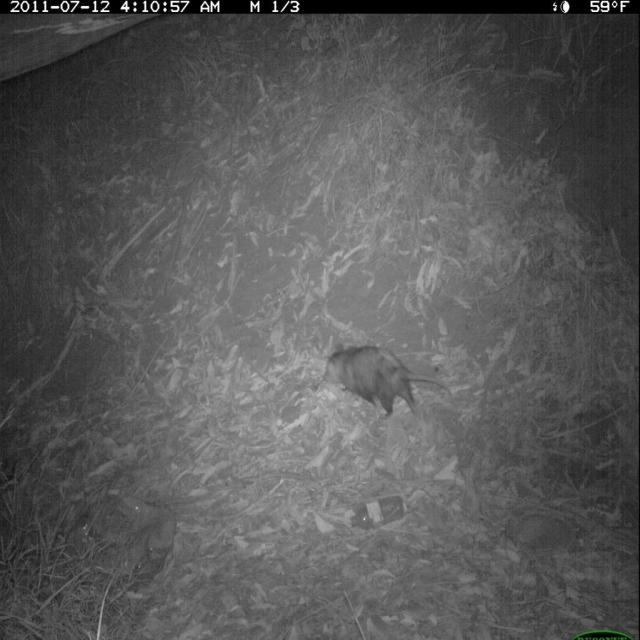opossum: (313, 335, 462, 432)
